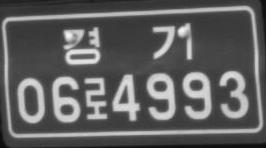0: (16, 76, 46, 125)
3: (218, 69, 249, 120)
4: (111, 73, 141, 121)
6: (50, 74, 80, 124)
9: (145, 72, 177, 122), (181, 70, 212, 120)
경기_D: (62, 22, 193, 65)
로: (83, 76, 108, 121)
